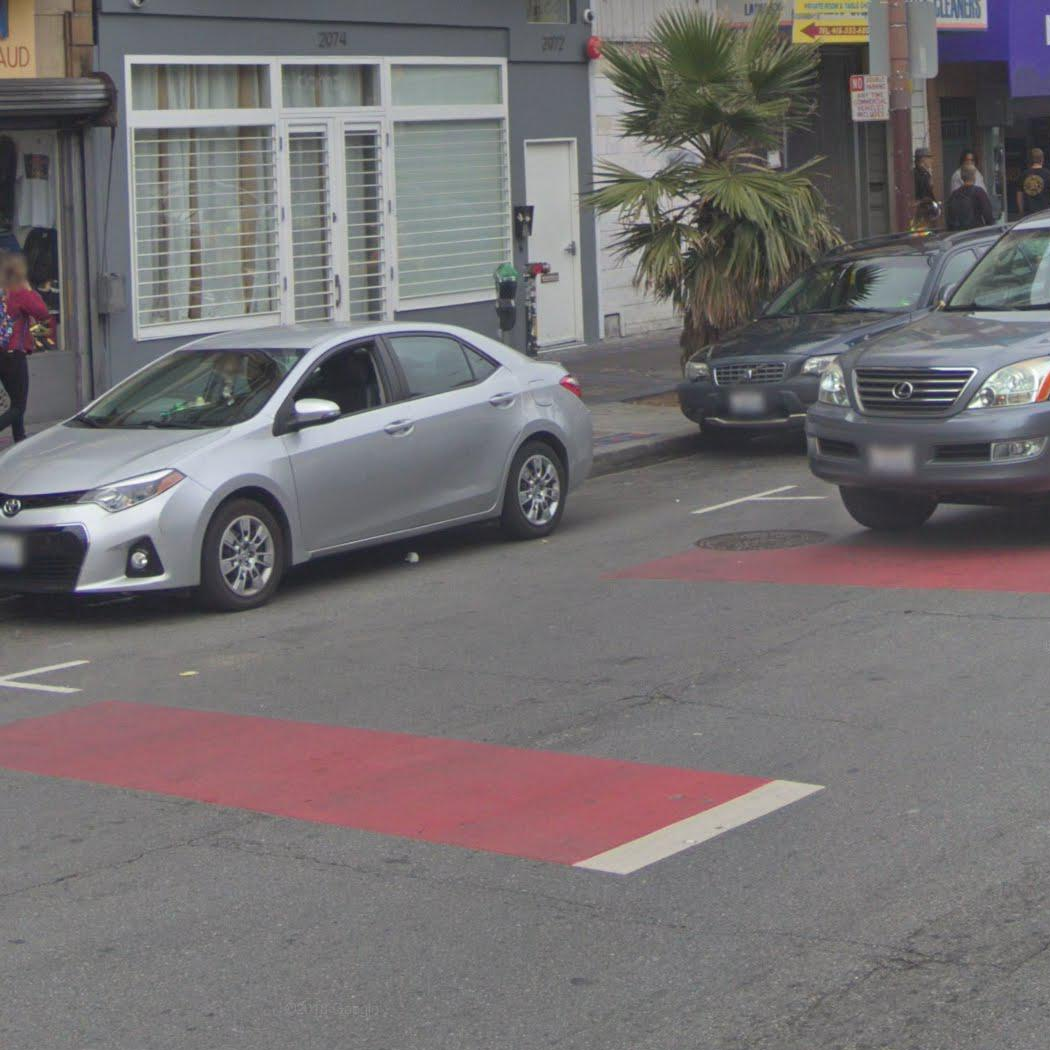No Parking: (847, 73, 892, 122)
